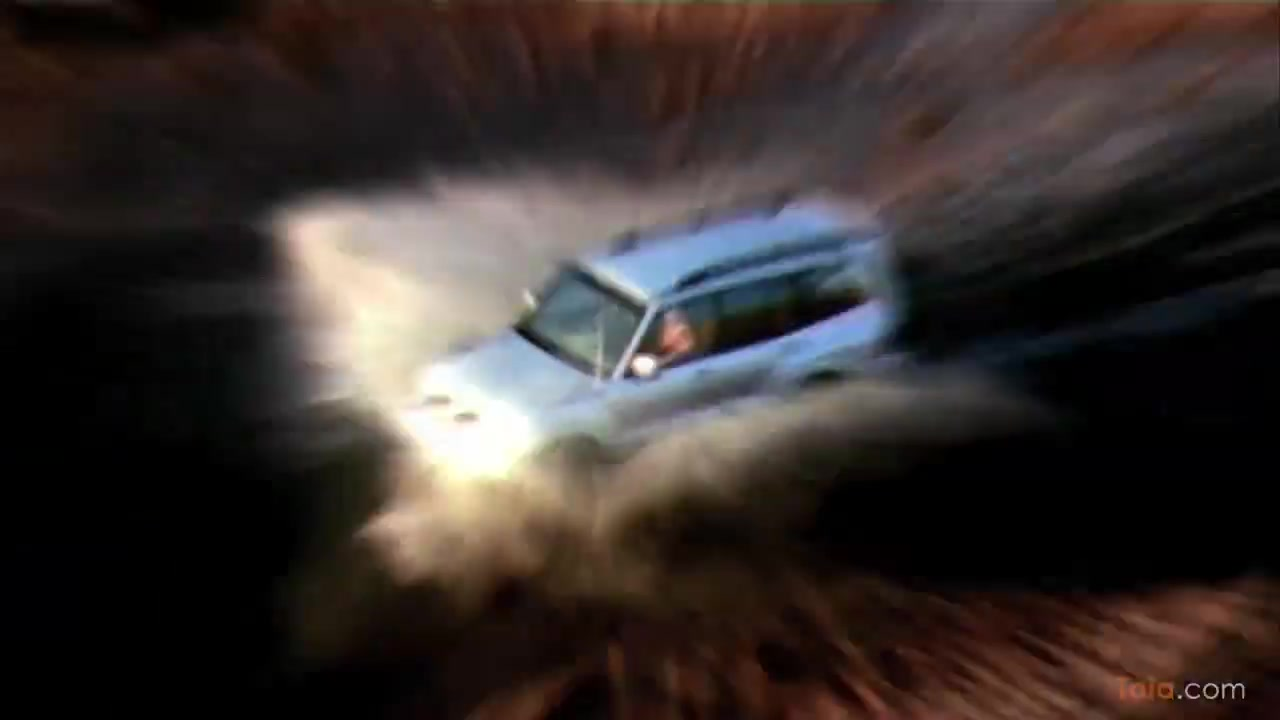car: (402, 186, 915, 492)
